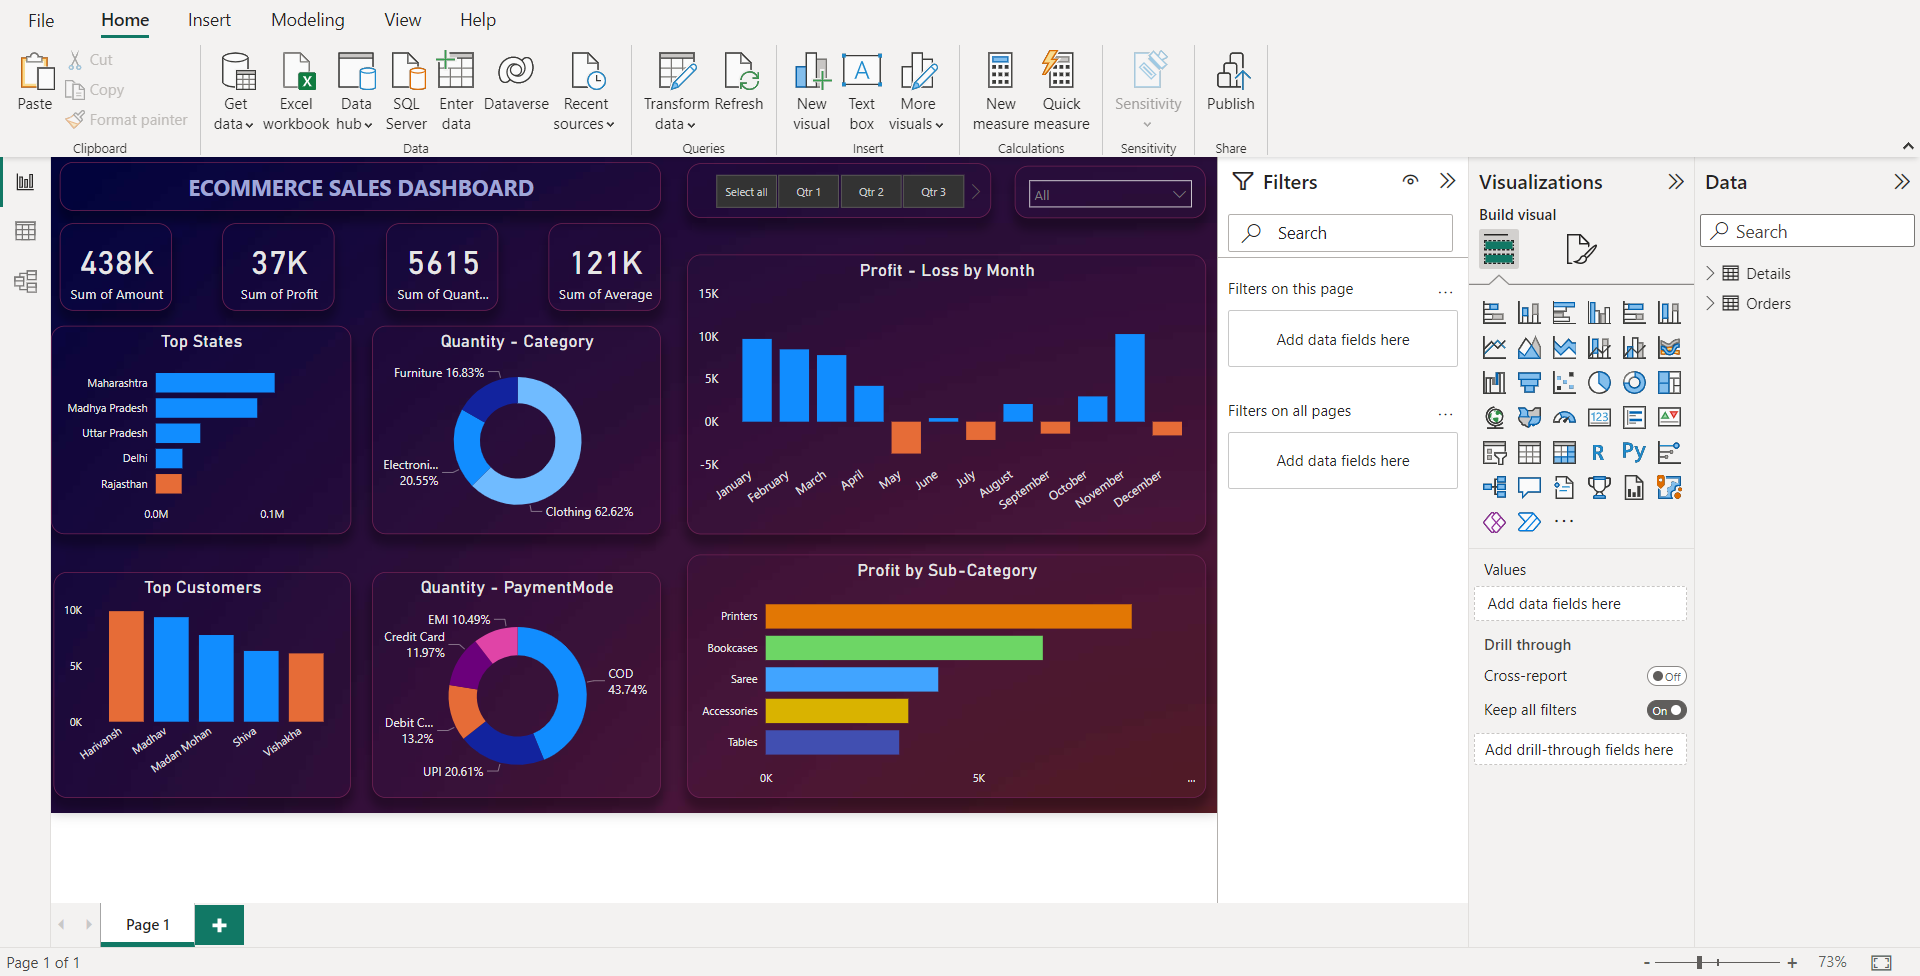

Layout of this report page (visuals, bound fields, positions):
{"tool":"powerbi","page":{"name":"Page 1","canvas":[1280,720],"ordinal":0},"visuals":[{"type":"textbox","box":[9.6,5.5,660,53.5],"z":0},{"type":"columnChart","title":"Profit - Loss by Month","fields":{"Category":["Orders.Order Date.Variation.Date Hierarchy.Month"],"Y":["Sum(Details.Profit)"]},"box":[698.5,107,569.5,307.4],"z":1000},{"type":"clusteredBarChart","title":"Profit by Sub-Category","fields":{"Category":["Details.Sub-Category"],"Y":["Sum(Details.Profit)"]},"box":[698.5,436.4,569.5,267.6],"z":2000},{"type":"donutChart","title":"Quantity - Category","fields":{"Category":["Details.Category"],"Y":["Sum(Details.Quantity)"]},"box":[352.7,185.2,317,229.2],"z":3000},{"type":"donutChart","title":"Quantity - PaymentMode","fields":{"Category":["Details.PaymentMode"],"Y":["Sum(Details.Quantity)"]},"box":[352.7,480.3,317,223.7],"z":4000},{"type":"card","fields":{"Values":["Sum(Details.Amount)"]},"box":[9.6,72.1,123.5,96.1],"z":5000},{"type":"card","fields":{"Values":["Sum(Details.Profit)"]},"box":[188,72.1,123.5,96.1],"z":6000},{"type":"card","fields":{"Values":["Sum(Details.Quantity)"]},"box":[367.8,72.1,123.5,96.1],"z":7000},{"type":"card","fields":{"Values":["Sum(Details.Average)"]},"box":[546.1,72.1,123.5,96.1],"z":8000},{"type":"clusteredBarChart","title":"Top States","fields":{"Category":["Orders.State"],"Y":["Sum(Details.Amount)"]},"box":[0,185.2,329.3,229.2],"z":9000},{"type":"columnChart","title":"Top Customers","fields":{"Category":["Orders.Customer Name"],"Y":["Sum(Details.Amount)"]},"box":[2.7,480.3,326.6,223.7],"z":10000},{"type":"slicer","fields":{"Values":["Orders.Order Date.Variation.Date Hierarchy.Quarter"]},"box":[698.5,6.9,333.4,60.4],"z":11000},{"type":"slicer","fields":{"Values":["Orders.State"]},"box":[1058,9.6,209.9,57.6],"z":12000}]}

Visuals, with their boxes on the page's 1280x720 design canvas (x1, y1, x2, y2). These are canvas units, not pixel positions in the 1920x976 screenshot, which may show the page scaled, cropped or inside an application window:
textbox: box=[10, 6, 670, 59]
"Profit - Loss by Month" columnChart: box=[698, 107, 1268, 414]
"Profit by Sub-Category" clusteredBarChart: box=[698, 436, 1268, 704]
"Quantity - Category" donutChart: box=[353, 185, 670, 414]
"Quantity - PaymentMode" donutChart: box=[353, 480, 670, 704]
card - Sum(Details.Amount): box=[10, 72, 133, 168]
card - Sum(Details.Profit): box=[188, 72, 312, 168]
card - Sum(Details.Quantity): box=[368, 72, 491, 168]
card - Sum(Details.Average): box=[546, 72, 670, 168]
"Top States" clusteredBarChart: box=[0, 185, 329, 414]
"Top Customers" columnChart: box=[3, 480, 329, 704]
slicer - Orders.Order Date.Variation.Date Hierarchy.Quarter: box=[698, 7, 1032, 67]
slicer - Orders.State: box=[1058, 10, 1268, 67]
